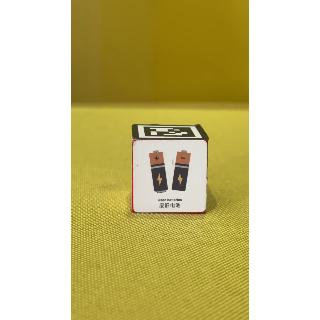Used_Battery: (135, 141, 210, 216)
